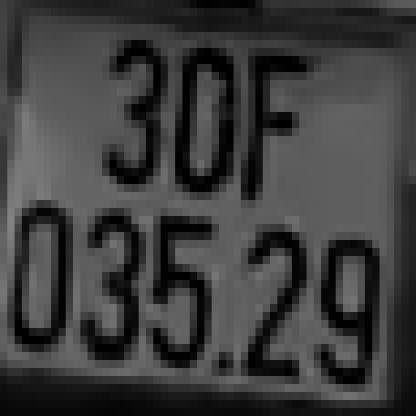0: (175, 48, 234, 192), (15, 208, 73, 344)
2: (234, 224, 299, 368)
3: (102, 40, 168, 192), (80, 208, 139, 352)
5: (154, 208, 204, 360)
9: (314, 232, 372, 376)
F: (241, 56, 299, 200)
